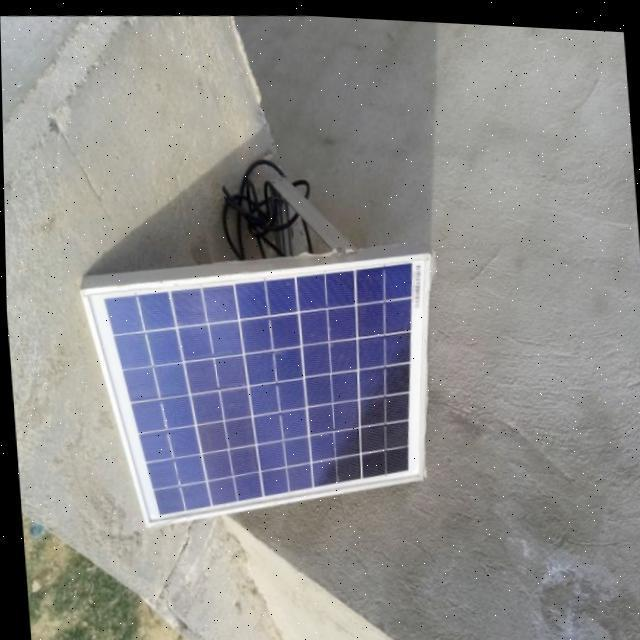Normal Solar Panel: (79, 234, 448, 539)
